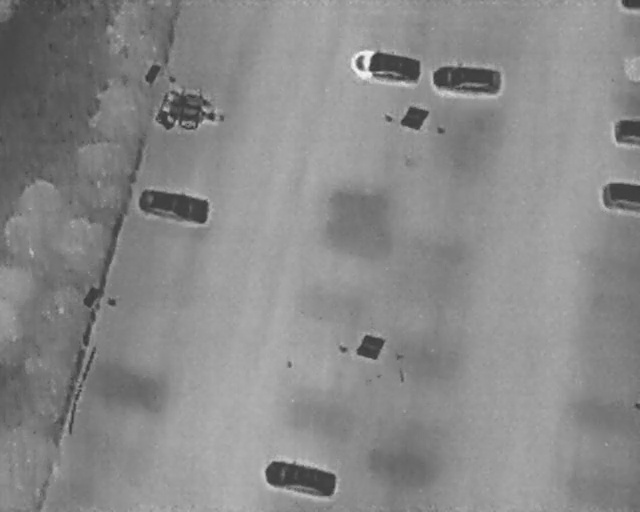Car: (260, 453, 339, 501), (135, 182, 213, 226), (347, 44, 424, 85), (430, 60, 503, 98), (600, 179, 640, 212), (612, 117, 640, 145), (620, 0, 640, 11)
